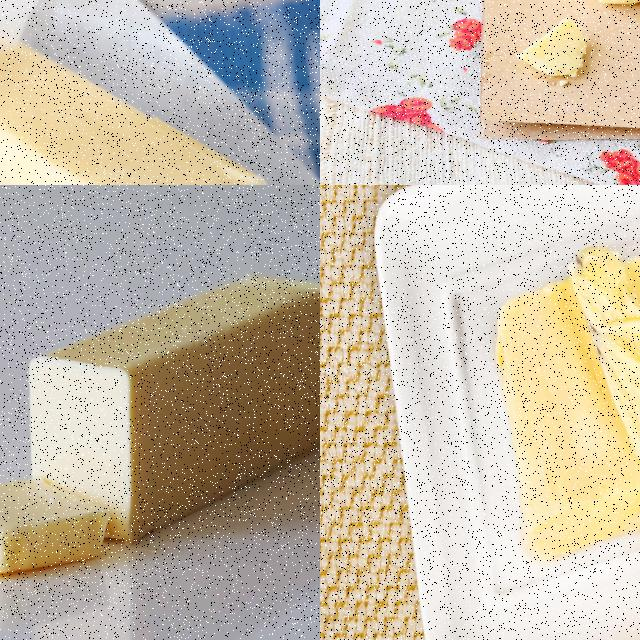butter: (27, 270, 319, 545), (0, 12, 277, 184), (493, 244, 639, 566), (0, 472, 108, 572)
